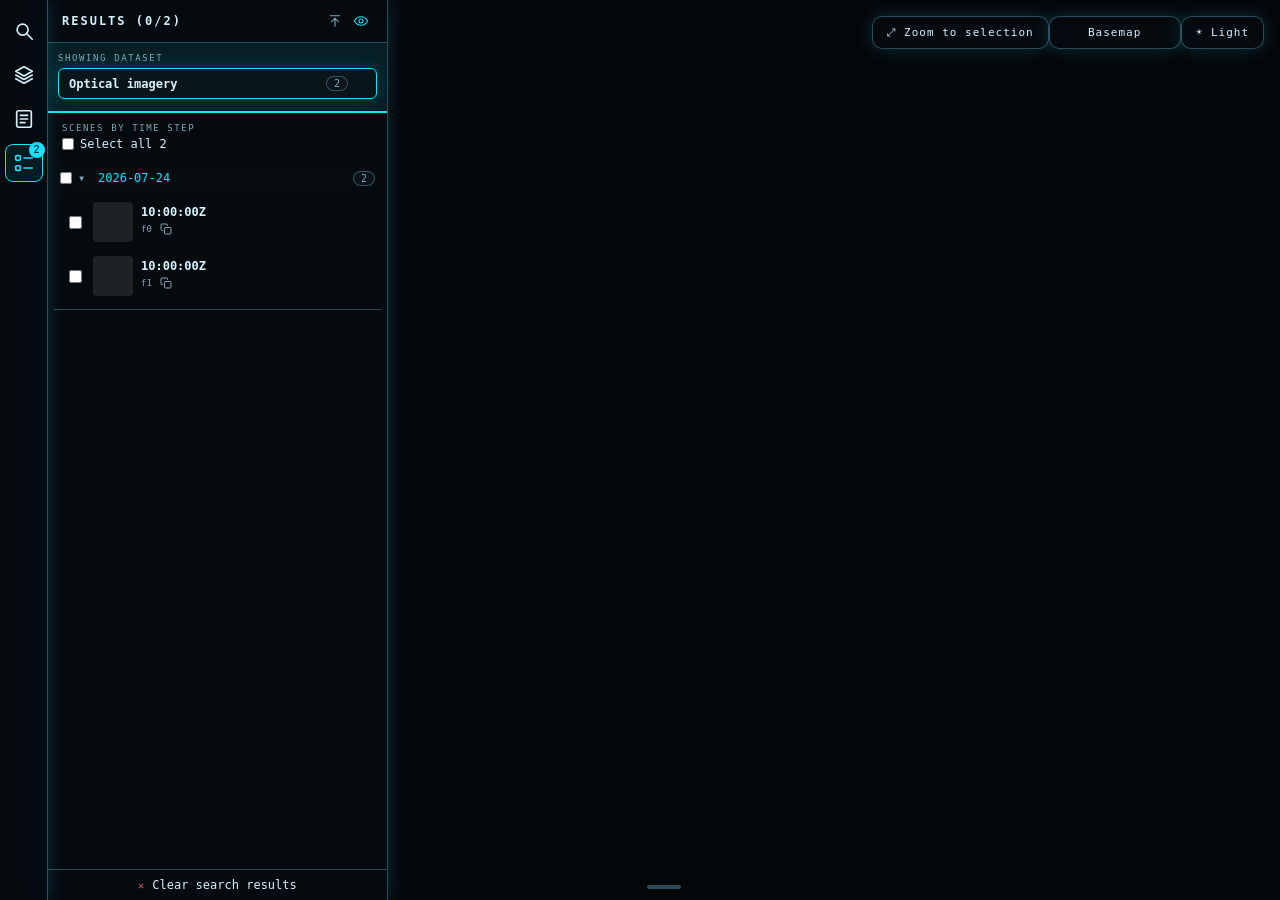
Test case: with a view open (Otto, 26.10.2026: the results never disappear, they are only switched off on the map) › shows the bar of the selection above the controls of a result view once a scene is ticked
Click the checkbox named "Select f0" at x=76, y=222, box [69,216,82,228]
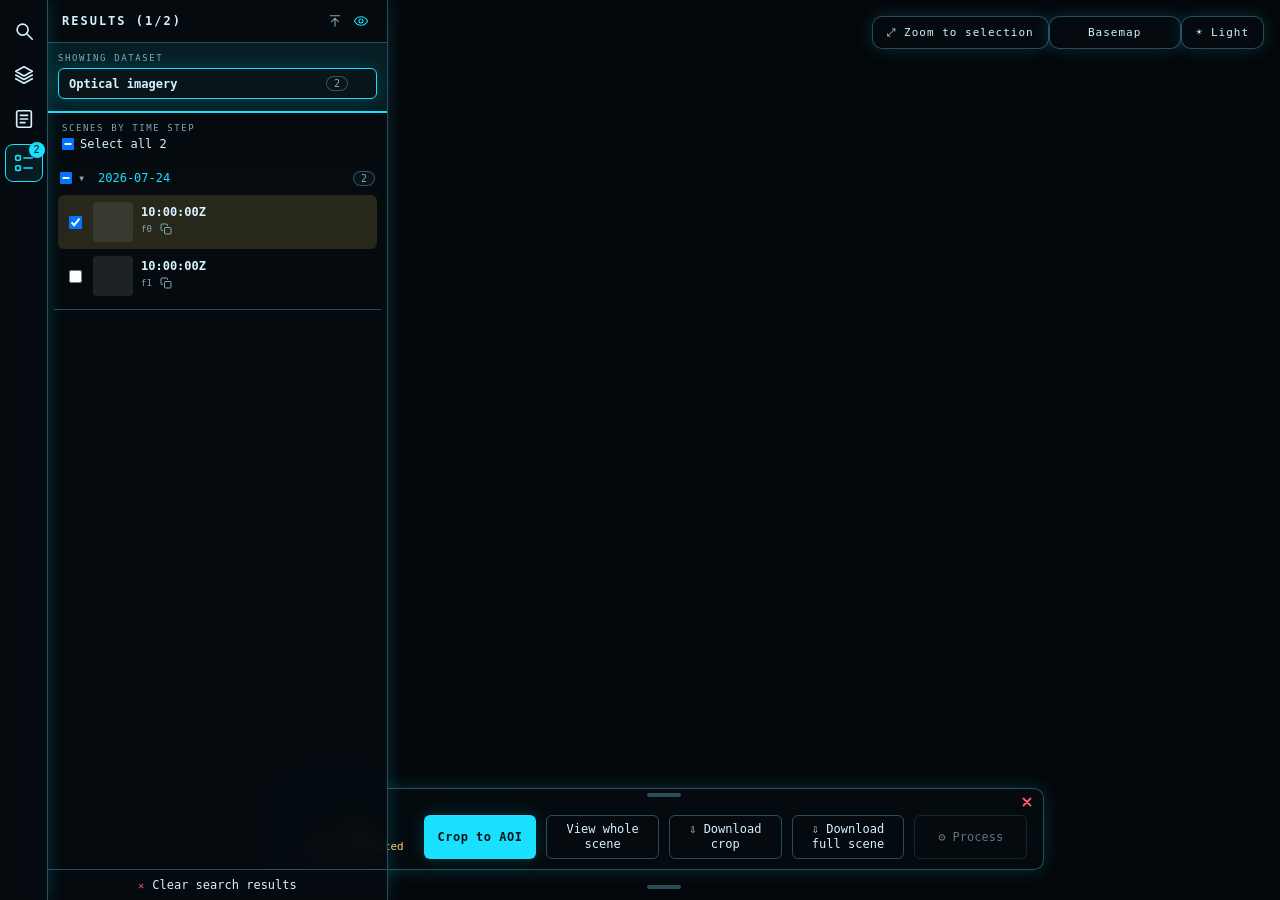
Result: the element with class "download-bar" is shown at [285,813,1043,869]
